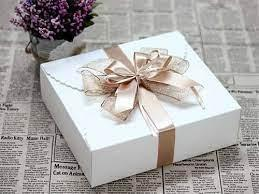box: (40, 30, 241, 188)
